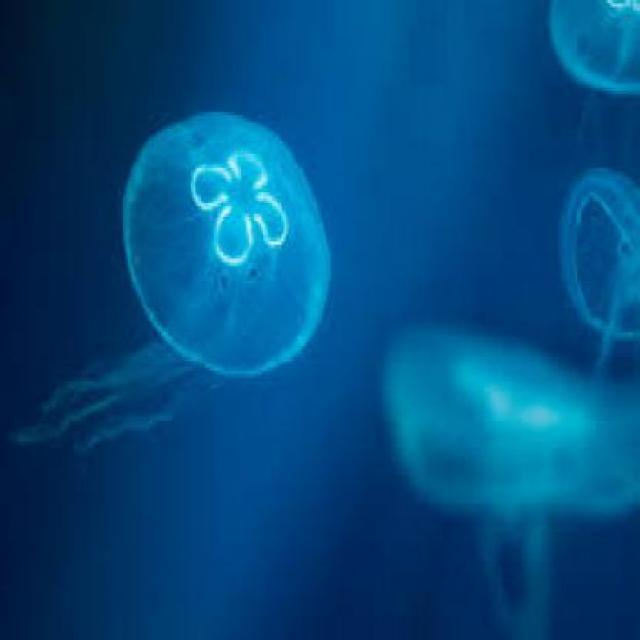Jellyfish: (46, 88, 340, 440)
